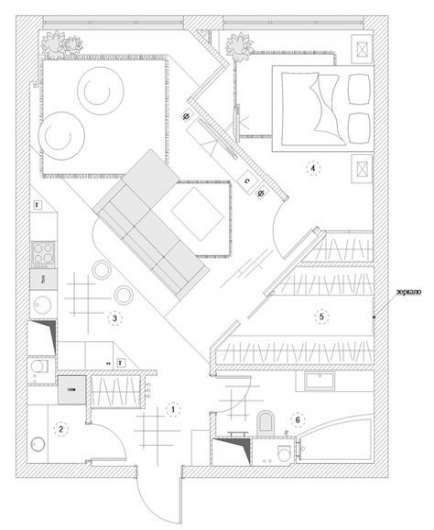door: (137, 471, 189, 530), (269, 203, 313, 259), (87, 423, 130, 462), (213, 372, 256, 410)
room: (219, 13, 379, 156)
wall: (368, 15, 392, 477), (15, 10, 31, 480), (183, 461, 392, 482), (17, 462, 140, 480)
window: (40, 14, 185, 33), (222, 13, 366, 30)
